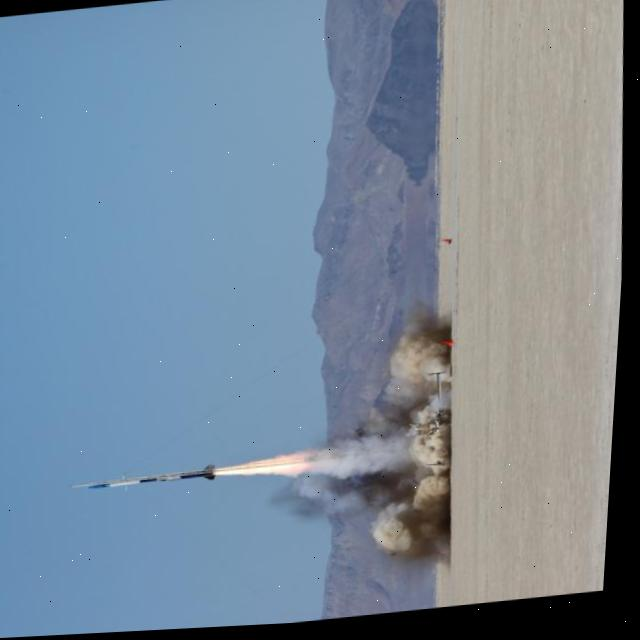missile: (66, 455, 232, 503)
